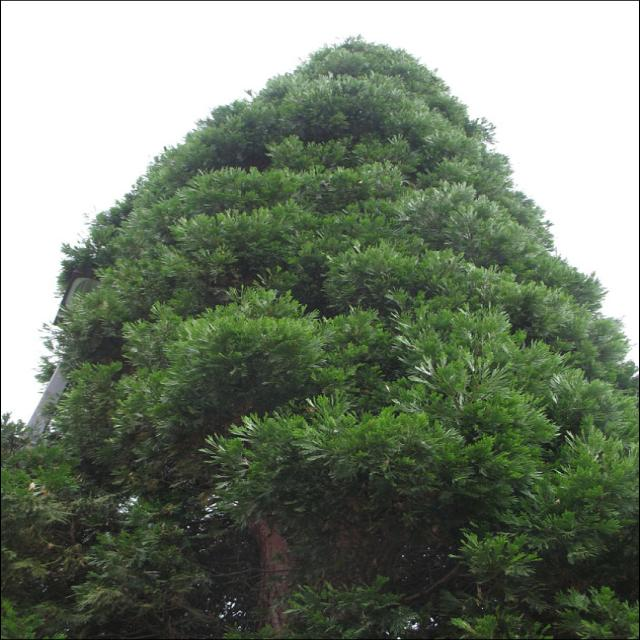Calocedrus decurrens: (52, 42, 635, 618)
